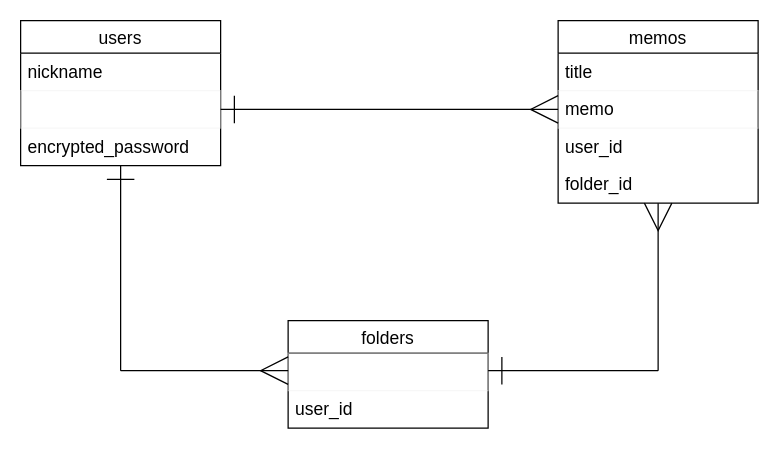
Image size: 779x449. Some labels were removed from this diagram. The shapes that lost their labels are listed below. From the top down, each one's centre as x and y in pixels, then its label:
point (120, 108): email
point (387, 371): folder
